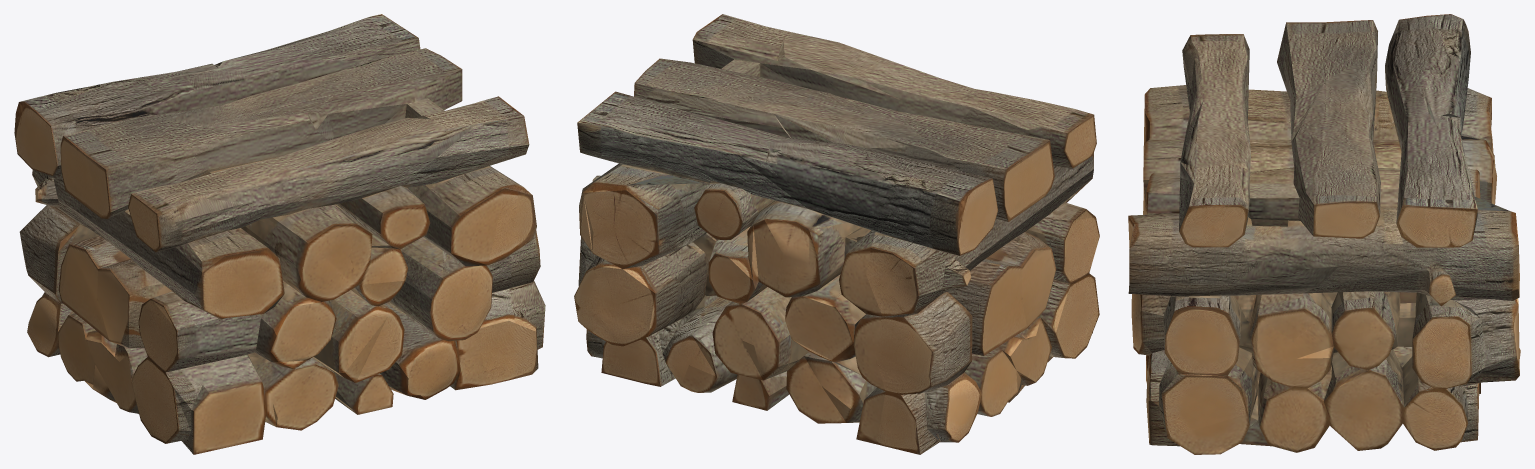
The picture shows the model from 3 angles, left to right: view 1: azimuth 30°, elevation 25°; view 2: azimuth 150°, elevation 25°; view 3: azimuth 270°, elevation 25°; orthographic projection.
Bounding box in the file's own units: 1.9 × 1.22 × 1.69.
Materials: 1 (1 with a texture image).
